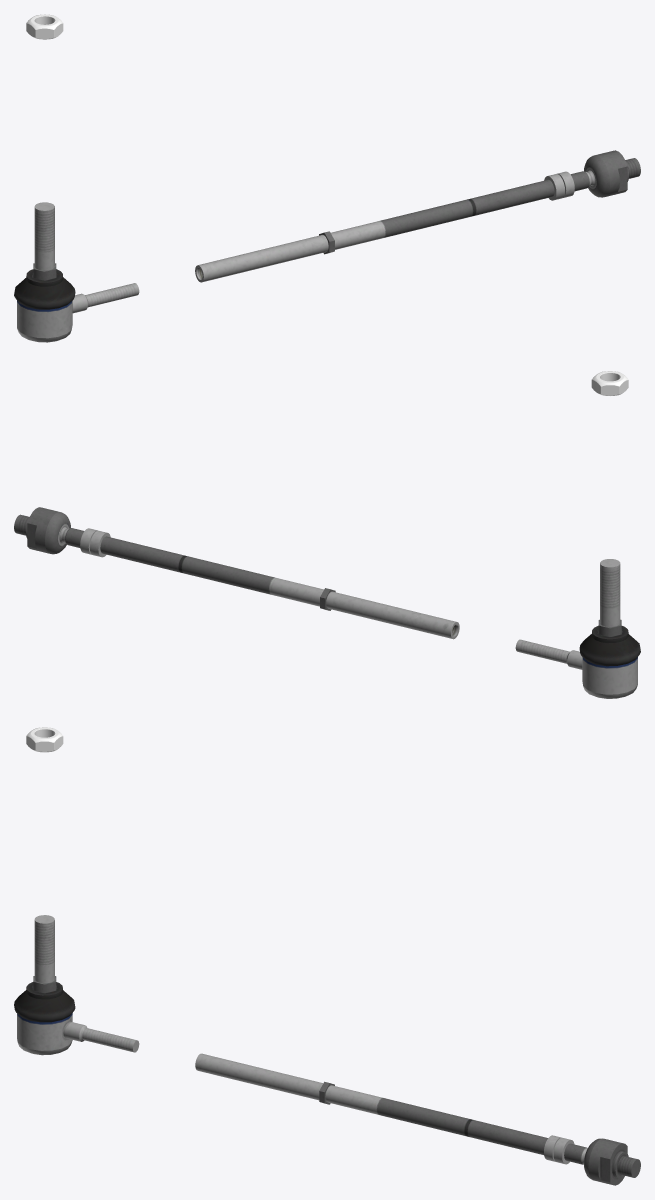
The model's file is steer.glb.
3 renders of one model, top to bottom at view 1: azimuth 30°, elevation 25°; view 2: azimuth 150°, elevation 25°; view 3: azimuth 330°, elevation 25°, orthographic.
Visible parts, largest first — view 1: drazekKierowniczy_1(0), koncowkaDrazkaKier_1(0), nakretkaDuza_1; view 2: drazekKierowniczy_1(0), koncowkaDrazkaKier_1(0), nakretkaDuza_1; view 3: drazekKierowniczy_1(0), koncowkaDrazkaKier_1(0), nakretkaDuza_1.
Boxes of the visible parts, box(x1,y1,x2,y2) form: drazekKierowniczy_1(0): box(195, 150, 640, 282); koncowkaDrazkaKier_1(0): box(14, 202, 139, 342); nakretkaDuza_1: box(26, 14, 63, 39); drazekKierowniczy_1(0): box(14, 507, 459, 639); koncowkaDrazkaKier_1(0): box(515, 559, 640, 698); nakretkaDuza_1: box(591, 371, 628, 395); drazekKierowniczy_1(0): box(195, 1053, 640, 1185); koncowkaDrazkaKier_1(0): box(14, 915, 139, 1055); nakretkaDuza_1: box(26, 727, 63, 752).
Size of the model in its own units: 0.0122 by 0.00588 by 0.00106.
2 materials, 1 textured.
